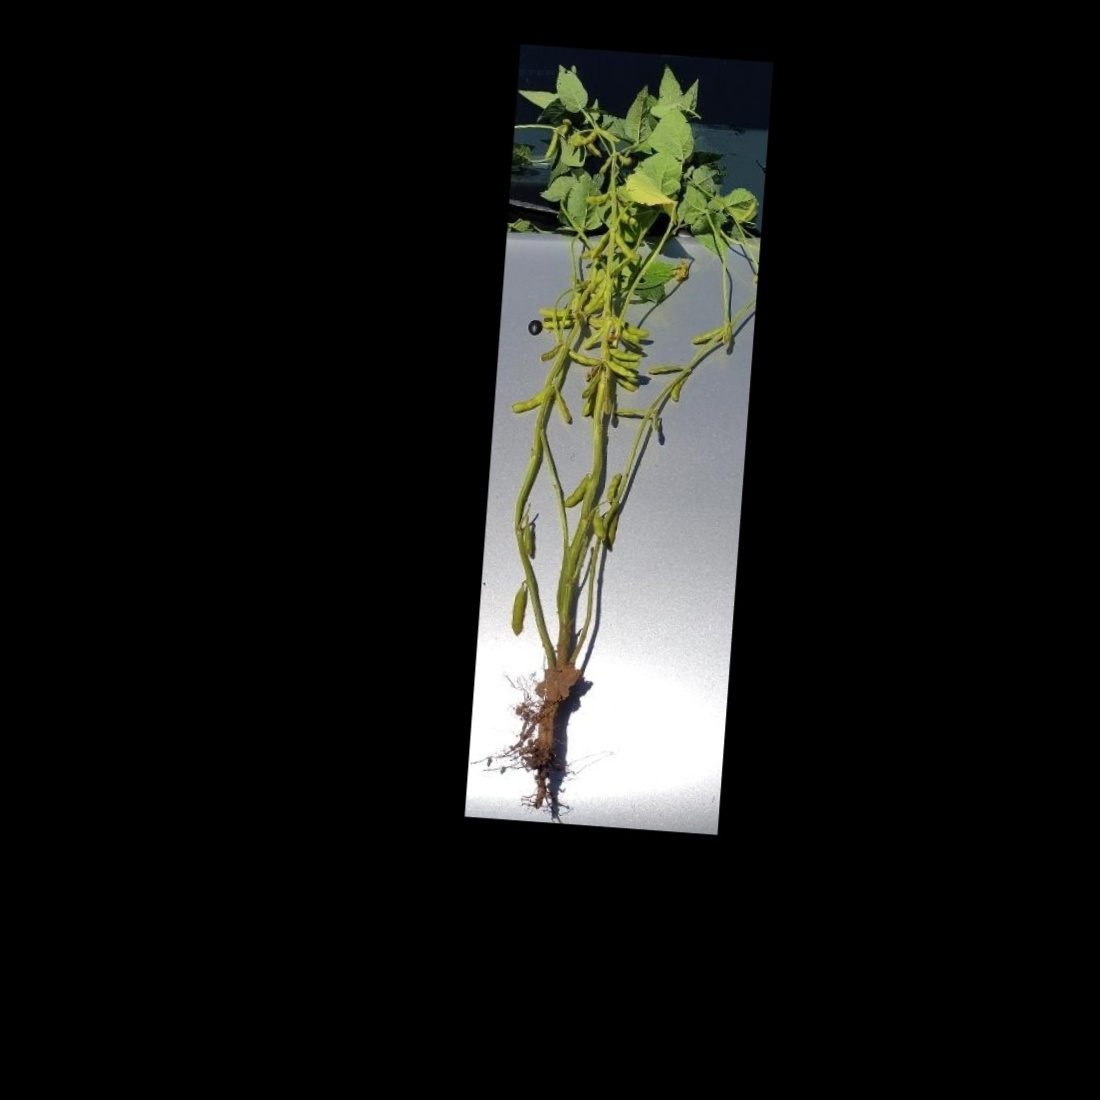pod: (505, 583, 533, 643), (548, 381, 580, 429), (608, 227, 642, 265), (579, 318, 612, 356), (560, 469, 588, 510), (507, 387, 543, 418), (642, 359, 686, 379), (565, 348, 605, 368), (601, 359, 638, 381), (603, 467, 623, 504), (606, 345, 646, 362), (582, 188, 612, 208)
soy: (484, 80, 761, 800)
